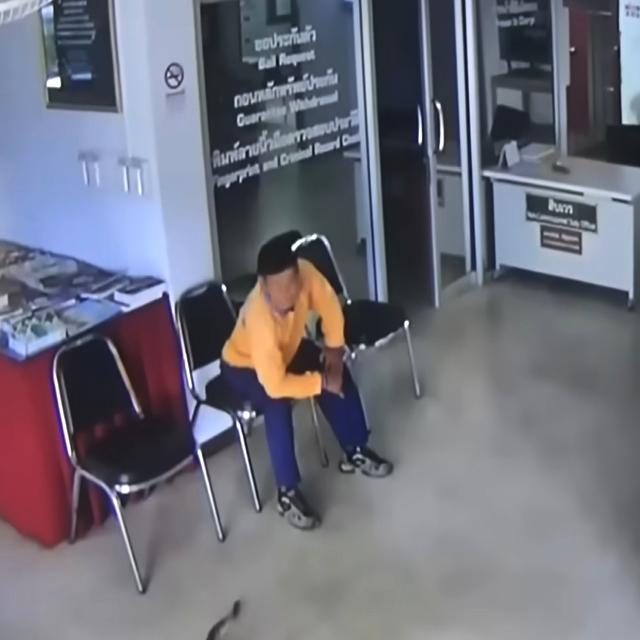sitting: (221, 234, 392, 529)
